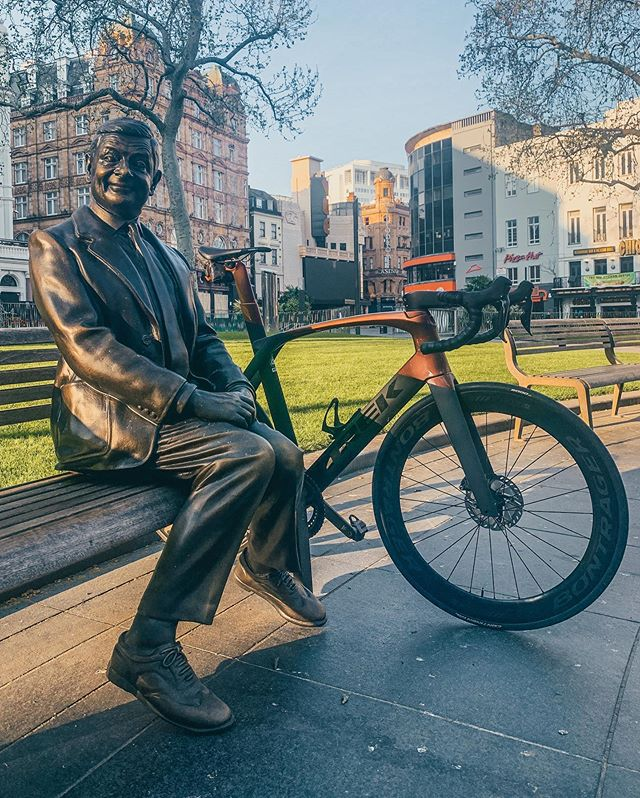bicicle: (202, 245, 618, 630)
building: (1, 2, 254, 303), (413, 117, 640, 327), (286, 149, 369, 310), (354, 168, 411, 313), (243, 168, 297, 309)
sky: (263, 1, 480, 163)
tree: (1, 1, 286, 256), (462, 1, 640, 193)
